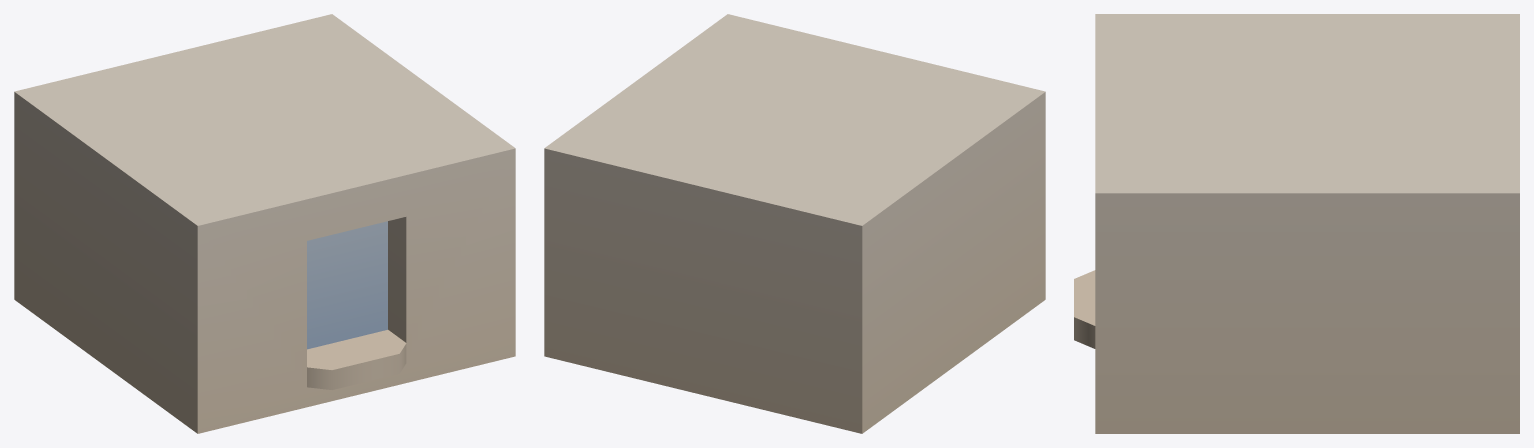
Rendered from building-window-sill.glb.
The picture shows the model from 3 angles, left to right: view 1: azimuth 30°, elevation 25°; view 2: azimuth 150°, elevation 25°; view 3: azimuth 270°, elevation 25°; orthographic projection. The views are drawn at different scales.
Parts seen in each view (by area): view 1: building-window-sill; view 2: building-window-sill; view 3: building-window-sill.
Part boxes in pixels (x1,y1,x2,y2): building-window-sill: [14, 14, 515, 433]; building-window-sill: [544, 14, 1045, 433]; building-window-sill: [1074, 14, 1519, 433].
Bounding box in the file's own units: 1 × 0.625 × 1.05.
